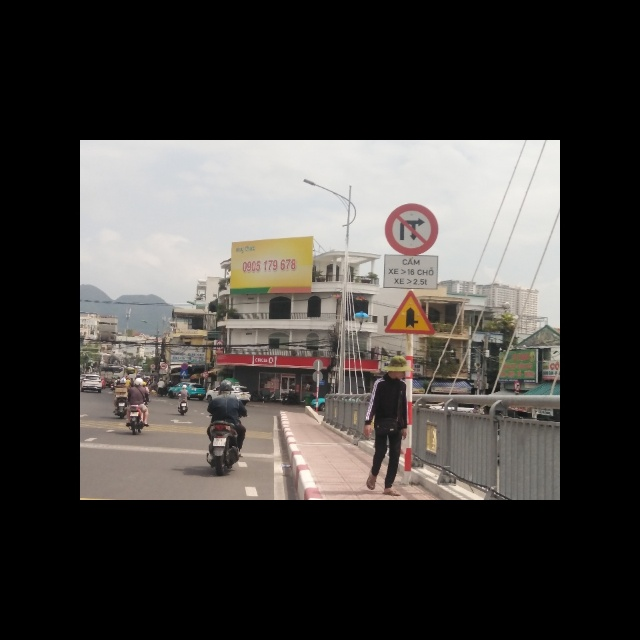Cấm quay đầu và rẽ phải: (385, 201, 437, 255)
Giao nhau với đường không ưu tiên: (383, 289, 435, 335)
